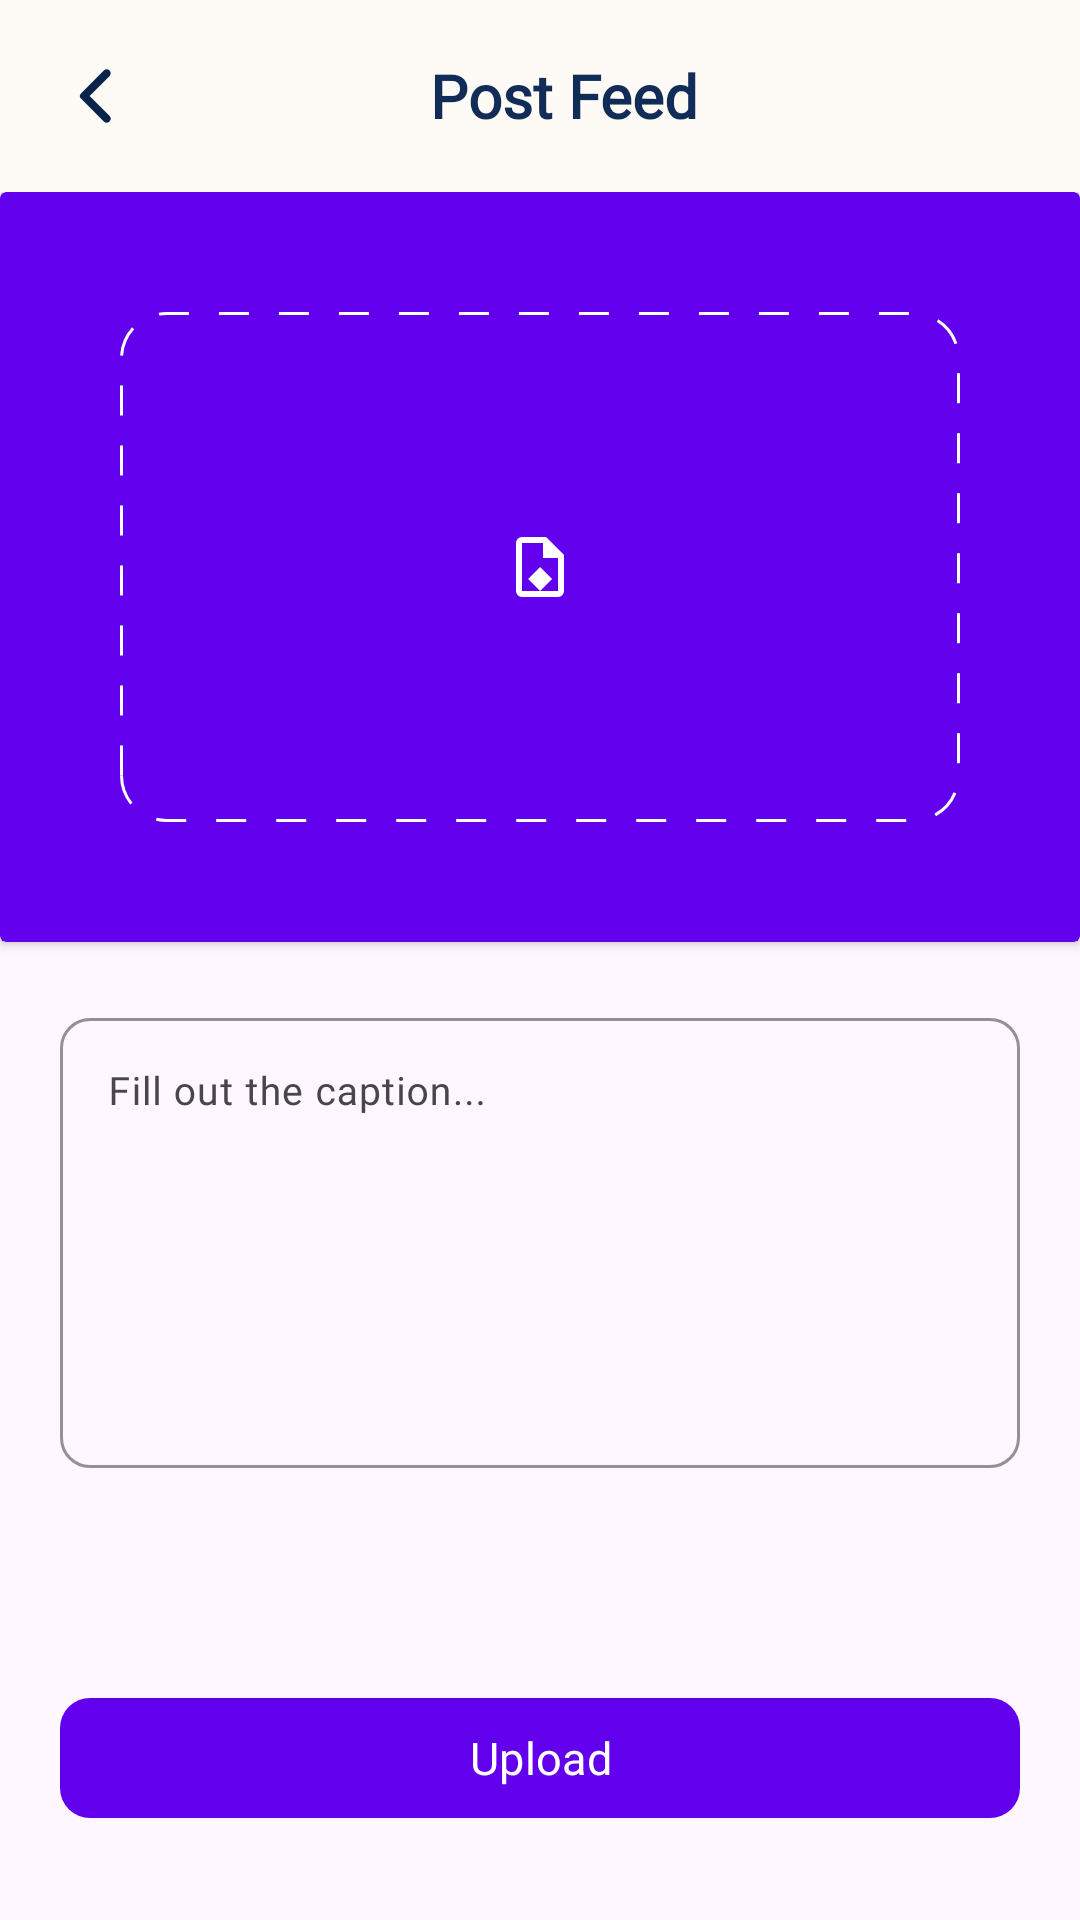

Icons on this 1080w x 1920h Android screen, each with the point to tap as (x,y):
left line: (95,96)
